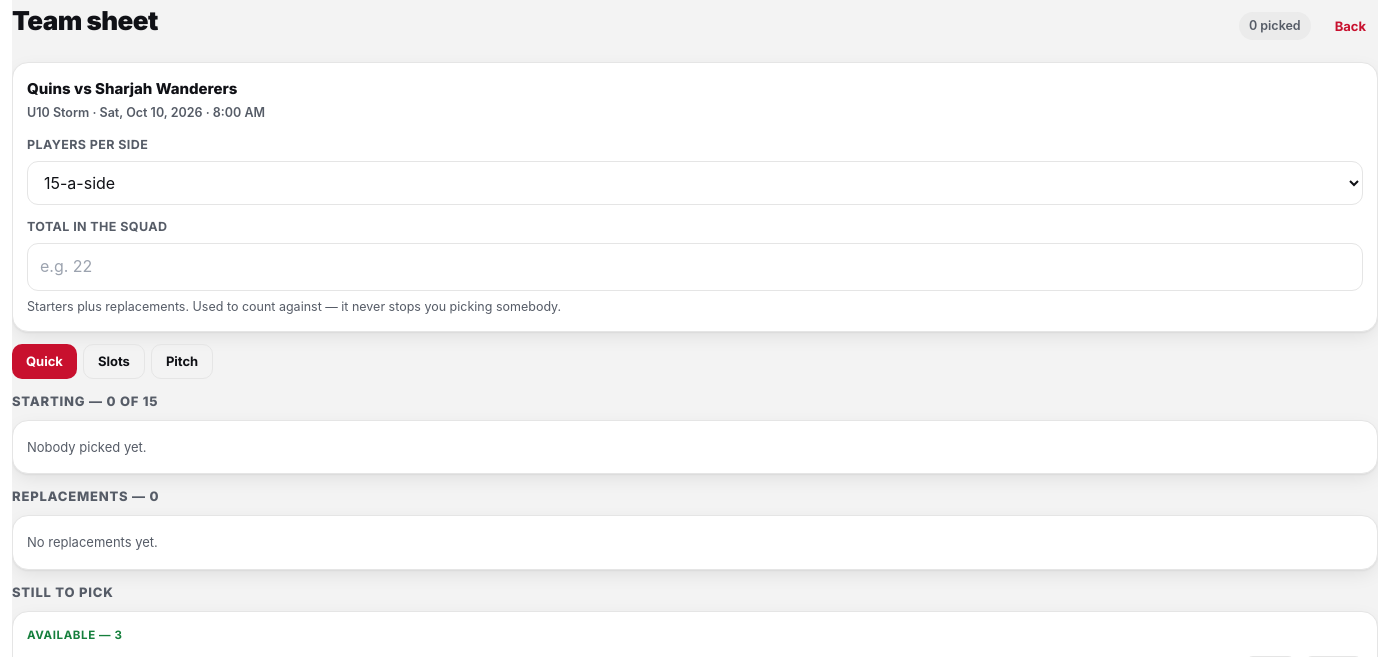
Scenario: the slots view › asks for a format before drawing shirts
Check: the button "Quick" is shown, box [12,344,77,379]
Select "Not set" in the dropdown labelled "Players per side" at (695, 183), box [27,161,1363,205]
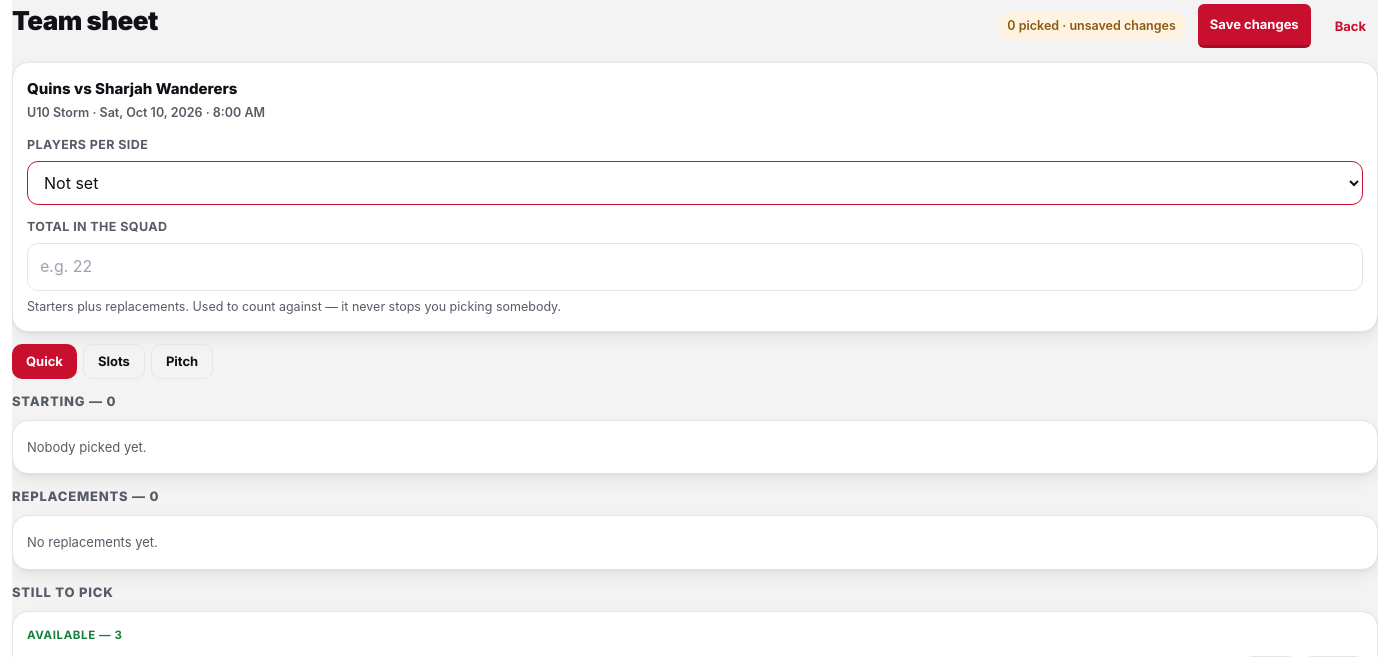
Click the button "Slots" at (114, 361), box [83,344,145,379]
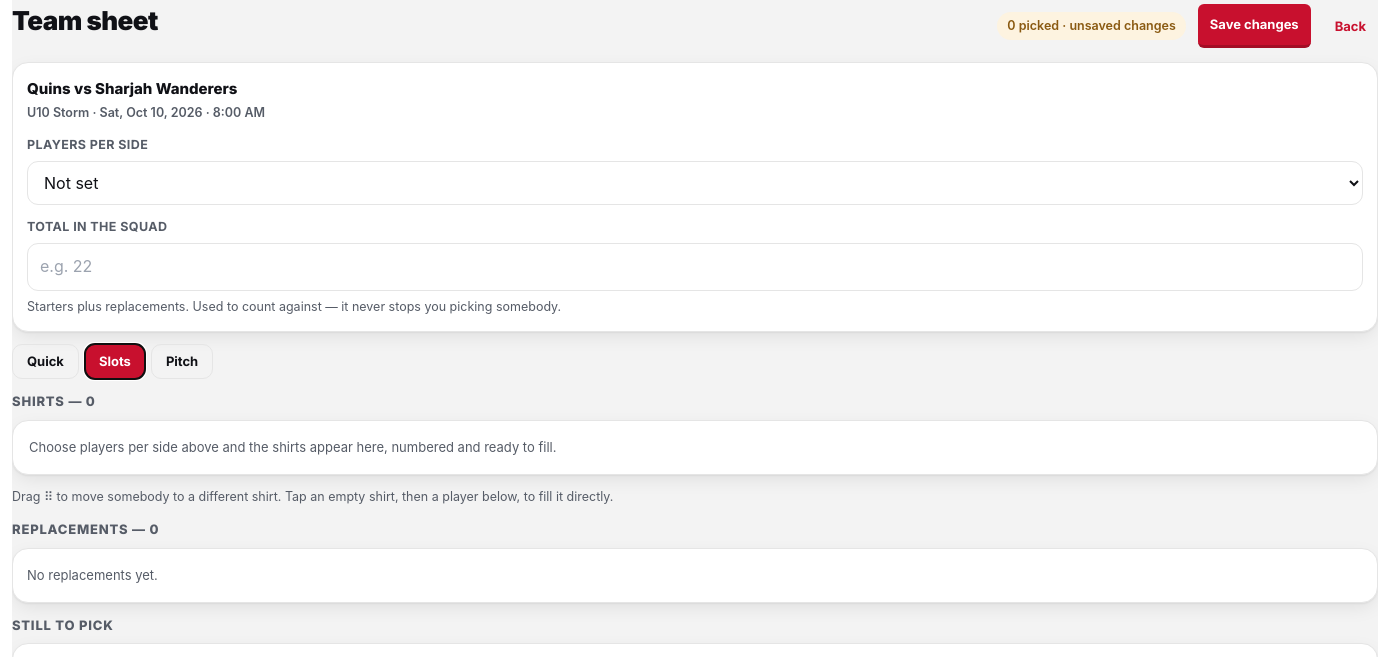
Check: the text "Choose players per side above" is shown, box [29,438,556,454]
